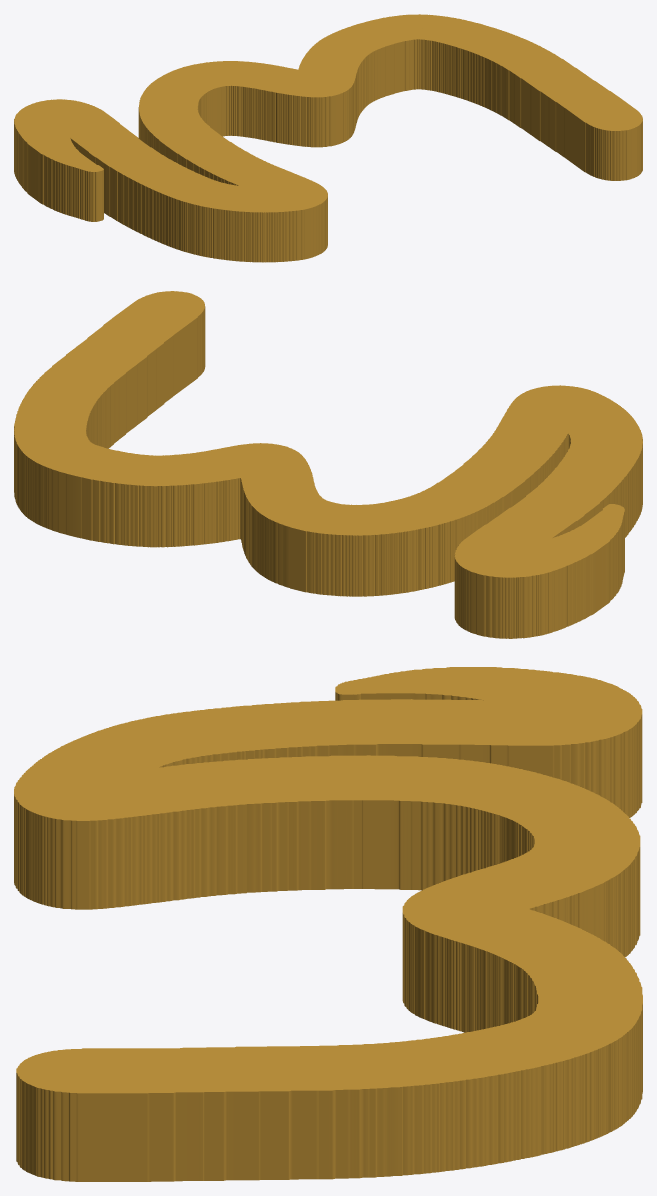
The picture shows the model from 3 angles, top to bottom: view 1: azimuth 30°, elevation 25°; view 2: azimuth 150°, elevation 25°; view 3: azimuth 270°, elevation 25°; orthographic projection. The views are drawn at different scales.
Parts seen in each view (by area): view 1: Curve.013; view 2: Curve.013; view 3: Curve.013.
Part boxes in pixels (x1,y1,x2,y2): Curve.013: (14, 14, 642, 262); Curve.013: (14, 291, 642, 638); Curve.013: (14, 667, 642, 1181).
Size of the model in its own units: 104 by 10.13 by 65.04.
